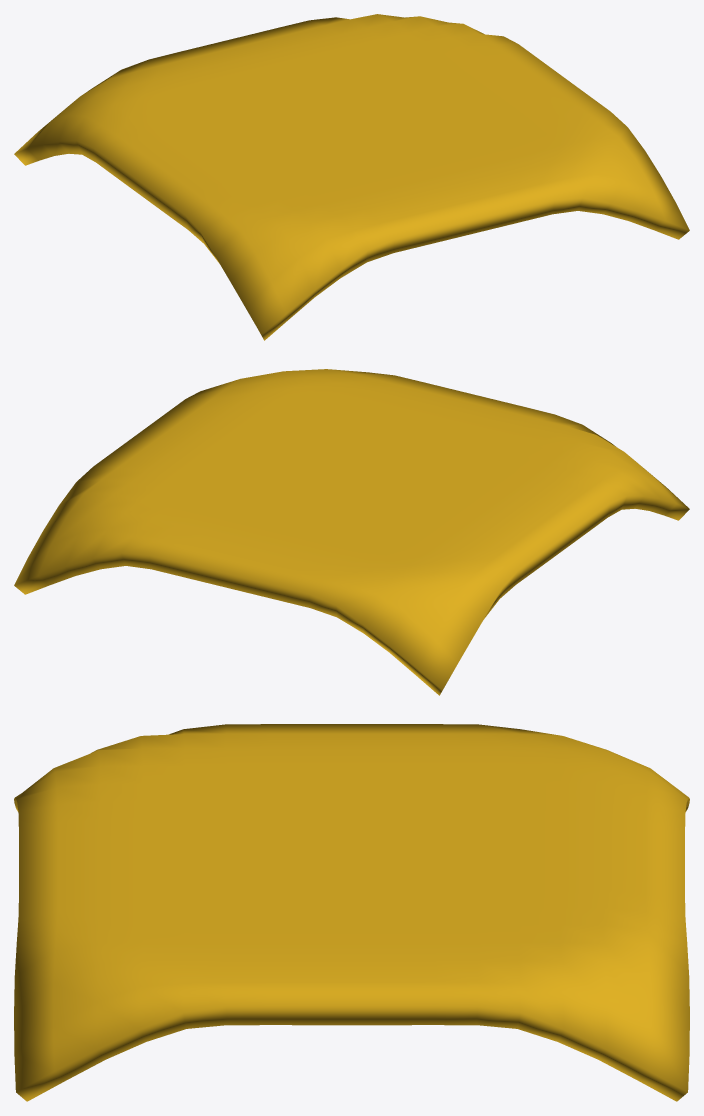
File: cheese.glb
3 renders of one model, top to bottom at view 1: azimuth 30°, elevation 25°; view 2: azimuth 150°, elevation 25°; view 3: azimuth 270°, elevation 25°, orthographic. The views are drawn at different scales.
Visible parts, largest first — view 1: cheese; view 2: cheese; view 3: cheese.
Part boxes in pixels (x1,y1,x2,y2): cheese: (14, 14, 689, 340); cheese: (14, 369, 689, 695); cheese: (14, 724, 689, 1101).
Bounding box in the file's own units: 0.1012 × 0.0182 × 0.1012.
